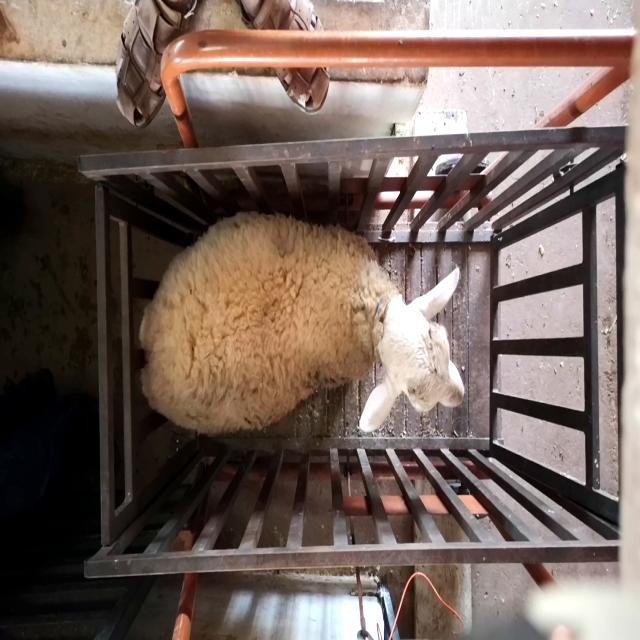sheep: (139, 209, 466, 438)
